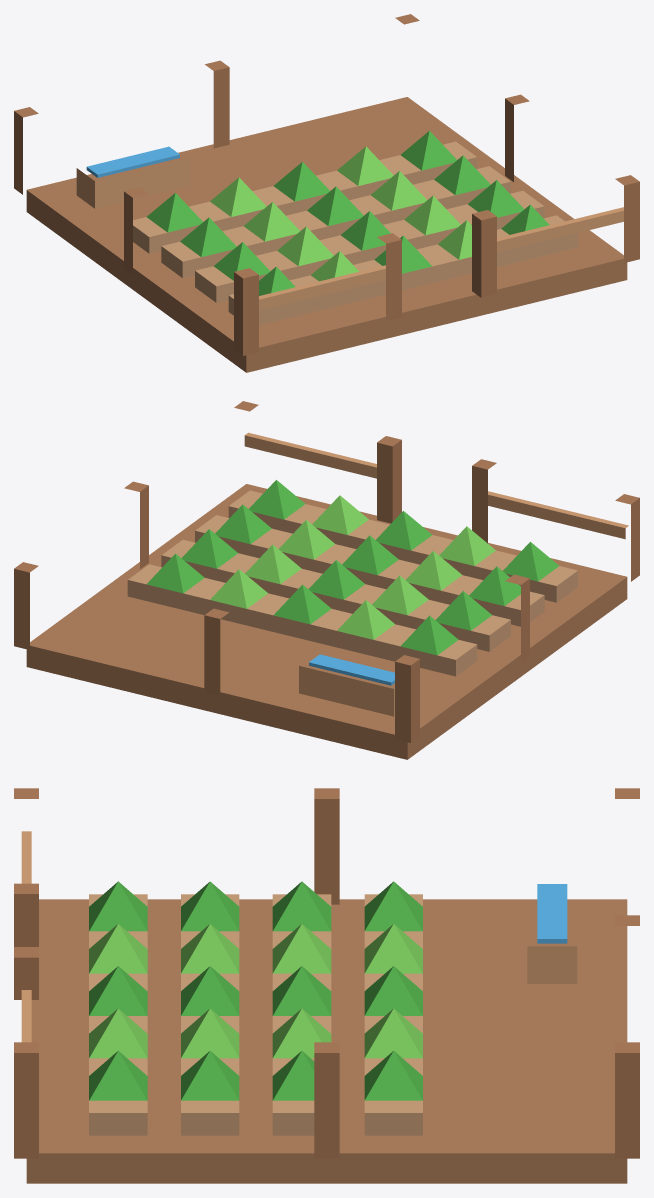
File: field_t2_v2.glb
The picture shows the model from 3 angles, top to bottom: view 1: azimuth 30°, elevation 25°; view 2: azimuth 150°, elevation 25°; view 3: azimuth 270°, elevation 25°; orthographic projection. The views are drawn at different scales.
Parts seen in each view (by area): view 1: field_t2_v2; view 2: field_t2_v2; view 3: field_t2_v2.
Boxes of the visible parts, <box> form: field_t2_v2: <box>14,14,639,372</box>; field_t2_v2: <box>14,401,639,759</box>; field_t2_v2: <box>14,788,639,1183</box>.
Size of the model in its own units: 0.75 by 0.18 by 0.75.
1 material, 1 textured.
